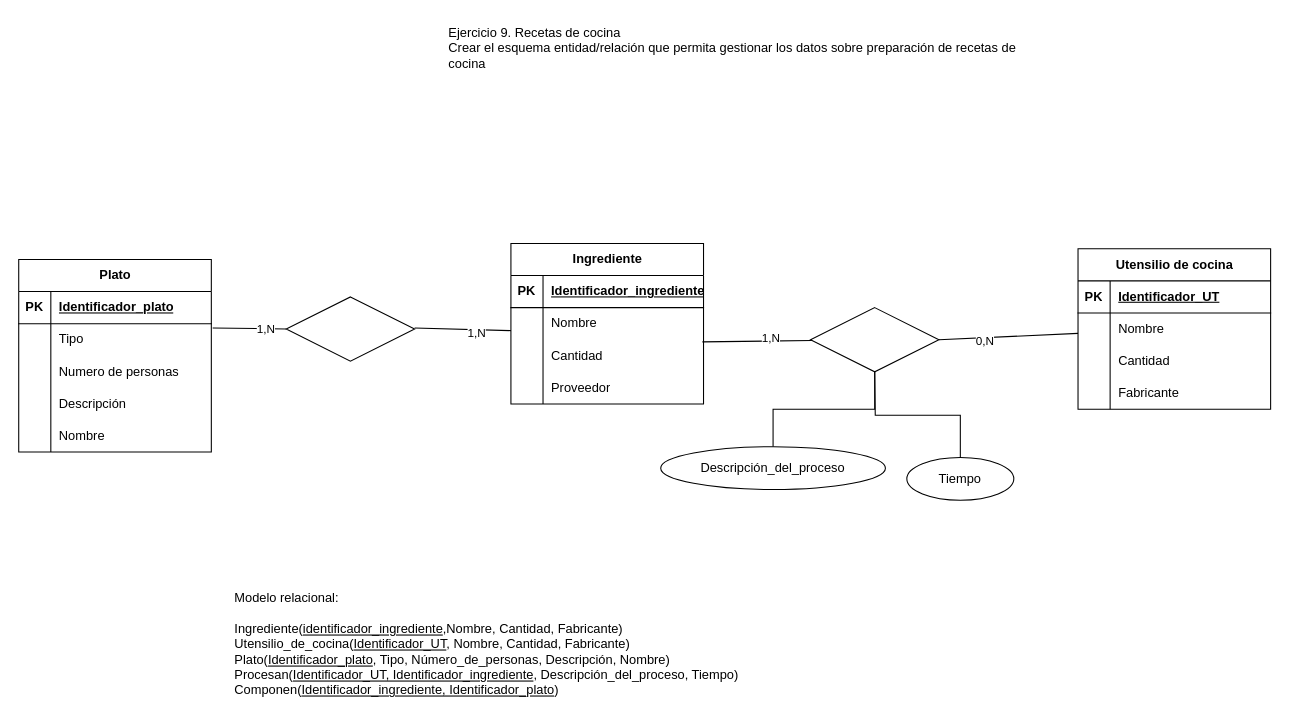
The diagram is 1289 pixels wide and 721 high, and some of its shapes have lost their labels. Each missing label, with the centre of its shape:
Componen: [350,328]
Procesan: [874,339]
